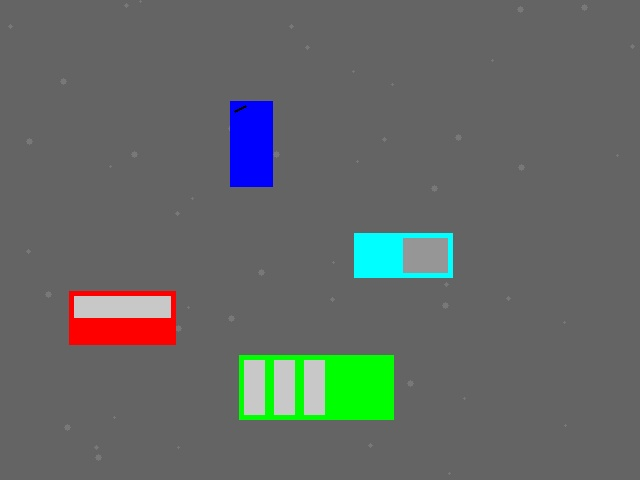bus: (239, 355, 393, 419)
car: (69, 291, 175, 344)
motorcycle: (230, 101, 272, 186)
truck: (354, 233, 452, 277)
